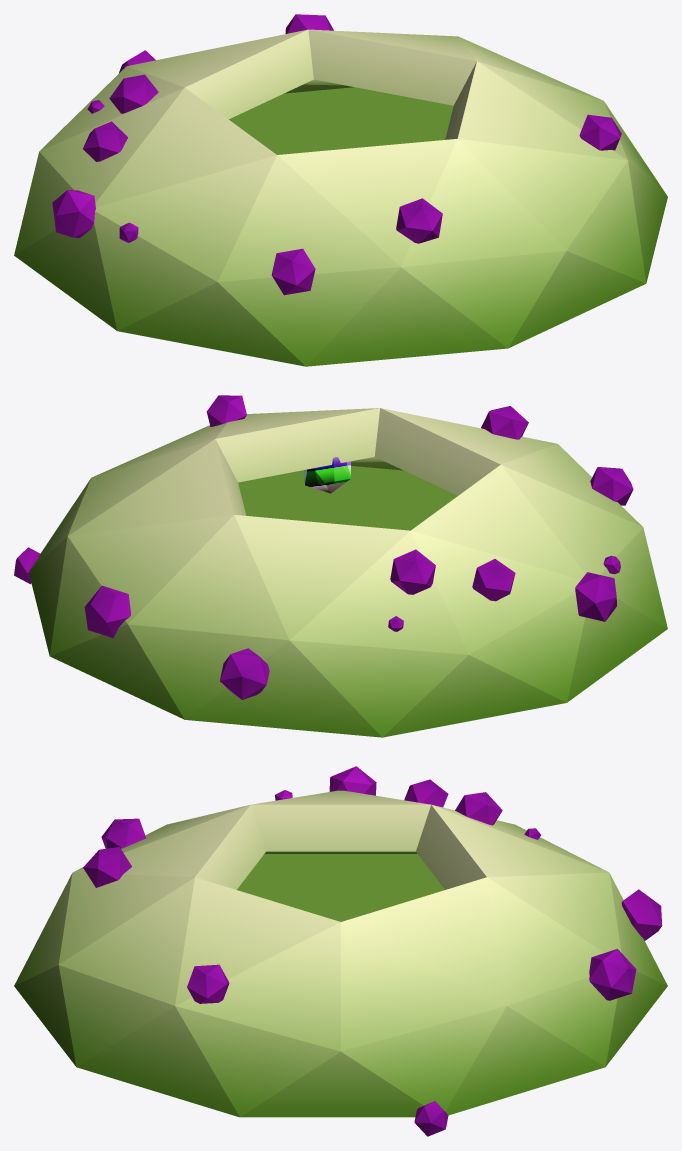
The model's file is TreeBase_Bush_PurpleFlower.fbx.
The picture shows the model from 3 angles, top to bottom: view 1: azimuth 30°, elevation 25°; view 2: azimuth 150°, elevation 25°; view 3: azimuth 270°, elevation 25°; orthographic projection. The views are drawn at different scales.
Parts seen in each view (by area): view 1: TreeBase_Bush_PurpleFlower; view 2: TreeBase_Bush_PurpleFlower; view 3: TreeBase_Bush_PurpleFlower.
Boxes of the visible parts, x1,y1,x2,y2 form: TreeBase_Bush_PurpleFlower: [14, 14, 667, 366]; TreeBase_Bush_PurpleFlower: [14, 395, 667, 737]; TreeBase_Bush_PurpleFlower: [14, 766, 667, 1136].
Bounding box in the file's own units: 276 × 67.21 × 279.
